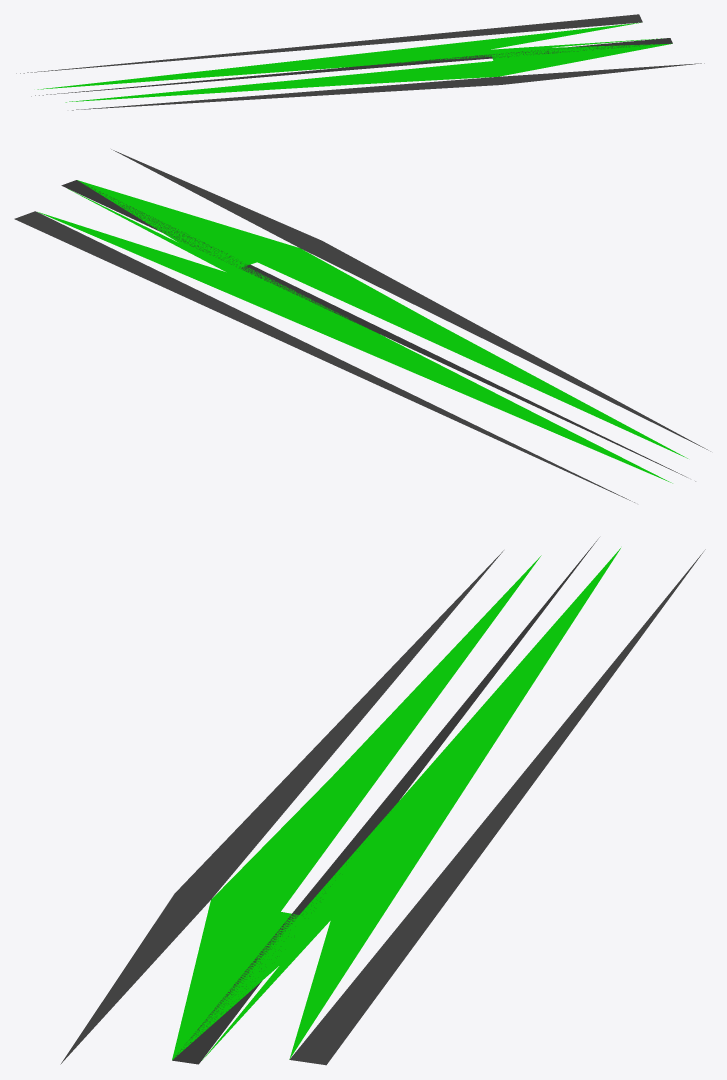
3 views of the same model, one above another, from view 1: azimuth 30°, elevation 25°; view 2: azimuth 150°, elevation 25°; view 3: azimuth 270°, elevation 25° (orthographic). The views are drawn at different scales.
Size of the model in its own units: 112 by 0 by 61.16.
